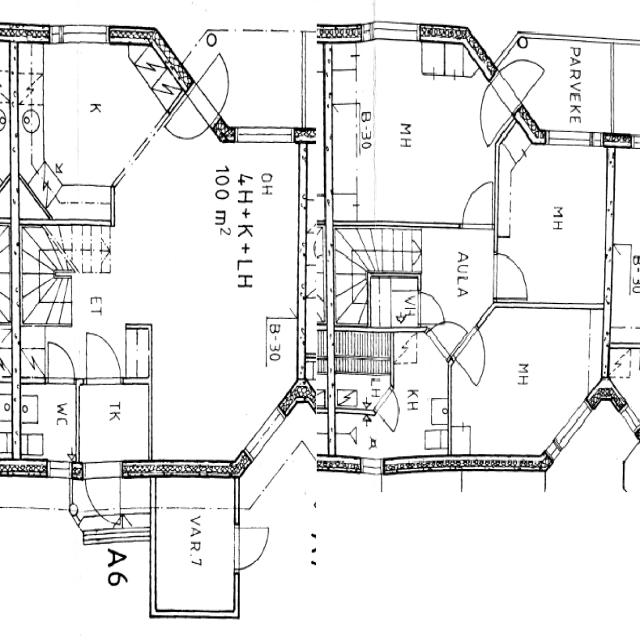door: (80, 462, 124, 530), (82, 328, 123, 386), (459, 176, 495, 229), (234, 520, 272, 570), (42, 336, 78, 386), (494, 250, 530, 298), (458, 334, 487, 383), (417, 289, 445, 325), (109, 164, 129, 200)
window: (231, 123, 296, 147), (59, 22, 110, 47), (370, 19, 421, 42), (543, 128, 594, 150), (46, 458, 72, 481), (629, 131, 640, 150)
zone: (332, 37, 492, 226), (455, 309, 593, 465), (500, 141, 610, 307), (149, 475, 239, 618), (390, 329, 450, 456), (77, 378, 153, 466), (421, 228, 491, 318), (609, 144, 640, 344), (17, 380, 78, 467), (333, 376, 389, 452), (368, 274, 420, 328), (0, 45, 16, 212), (613, 344, 640, 436), (265, 316, 298, 372)
